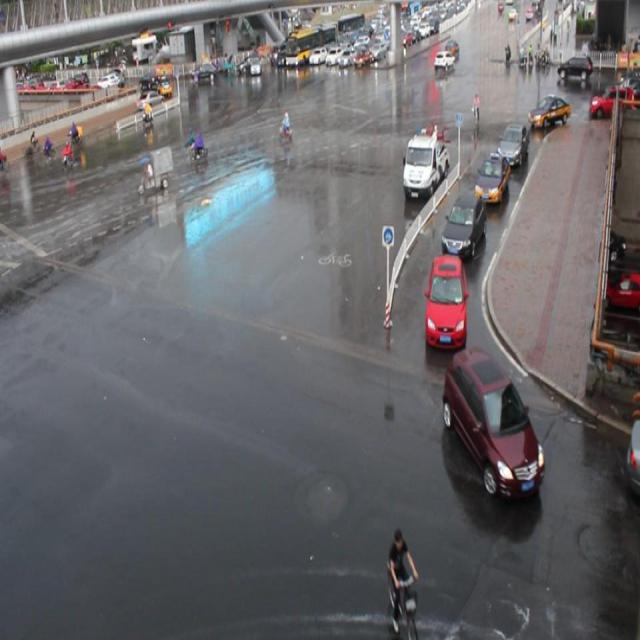bus: (402, 128, 450, 200)
car: (444, 346, 542, 497), (424, 252, 466, 348), (441, 194, 484, 255), (473, 153, 508, 204), (526, 94, 569, 130), (496, 123, 527, 165)
